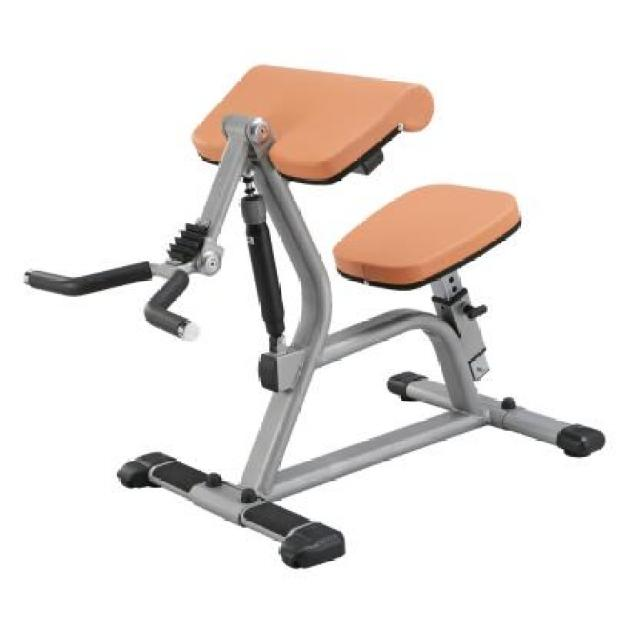arm curl machine: (26, 66, 606, 568)
